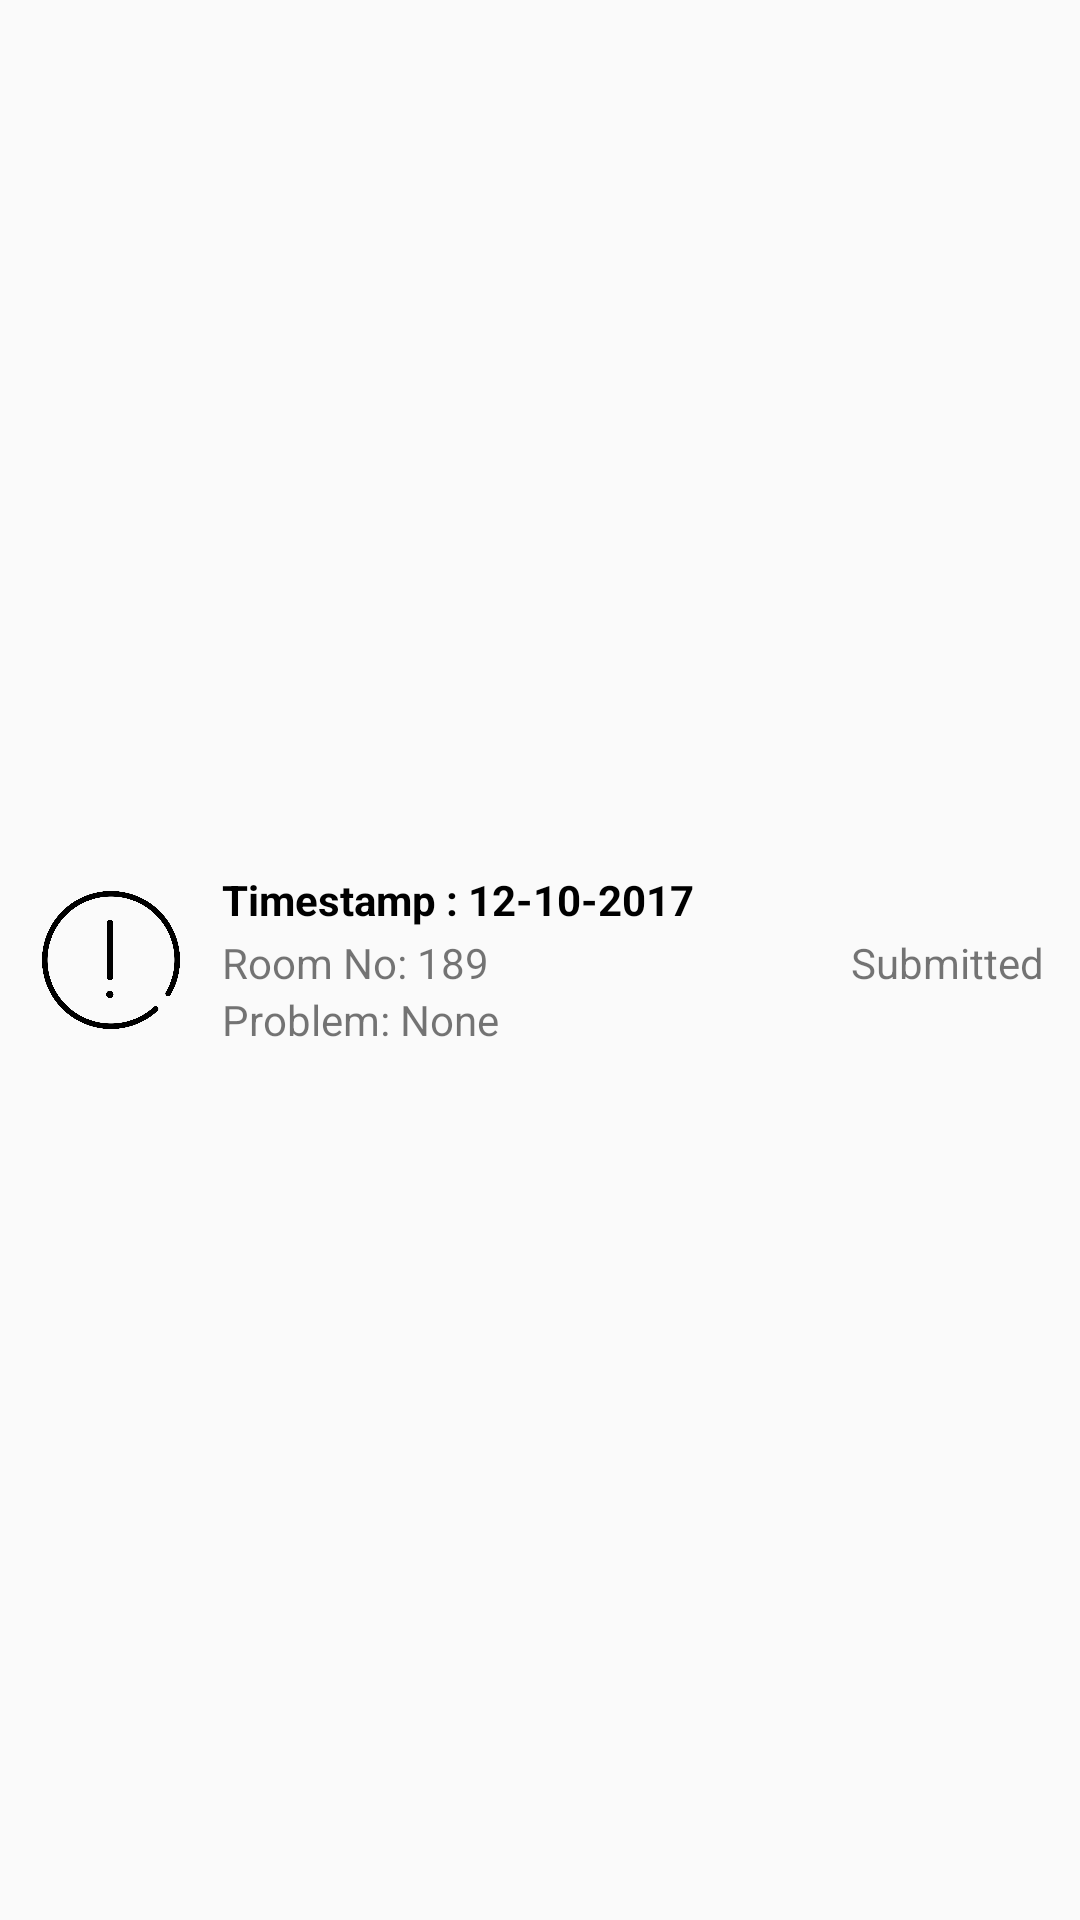

Icons on this 1080*1920 Android screen, each with its box as (x1, y1, x2, y2):
complaint: (42, 891, 180, 1029)
